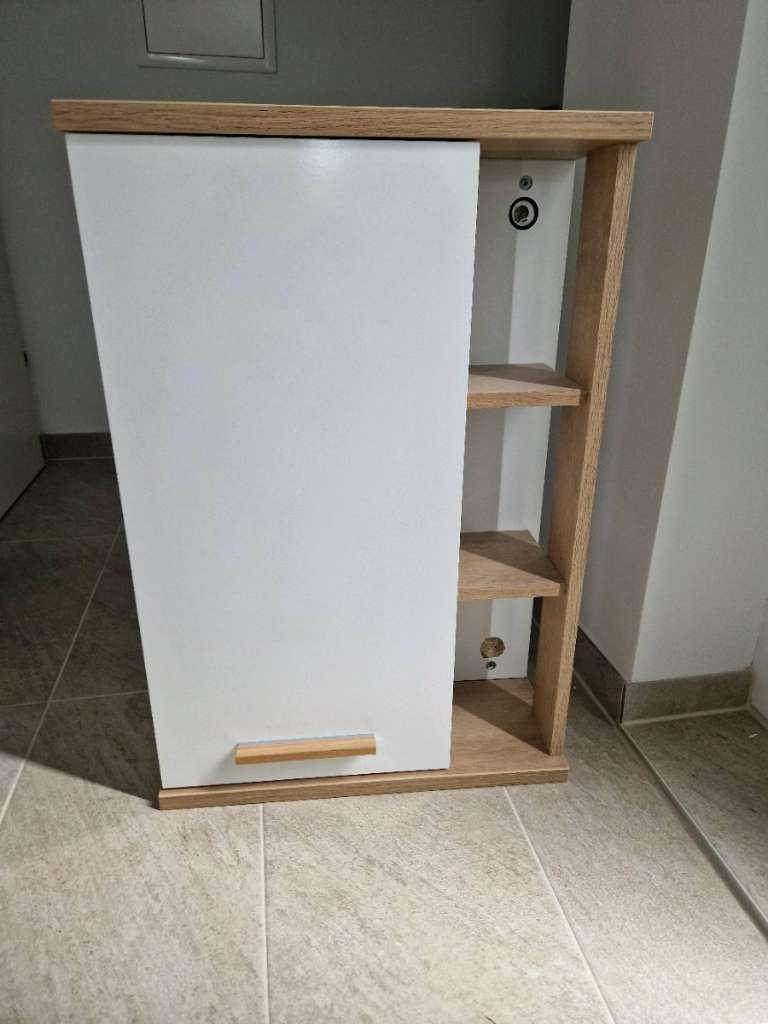cabinet_door: (118, 133, 463, 782)
handle: (227, 728, 382, 772)
